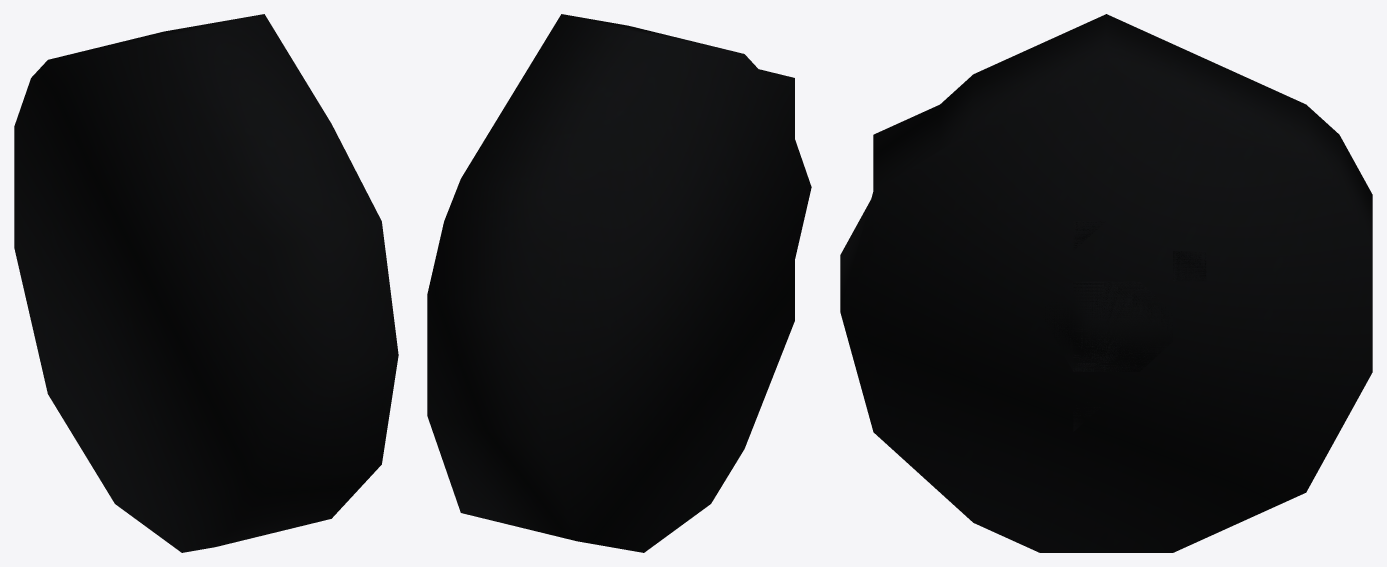
The picture shows the model from 3 angles, left to right: view 1: azimuth 30°, elevation 25°; view 2: azimuth 150°, elevation 25°; view 3: azimuth 270°, elevation 25°; orthographic projection.
Size of the model in its own units: 0.32 by 1.28 by 1.28.
Materials: 1 (1 with a texture image).
